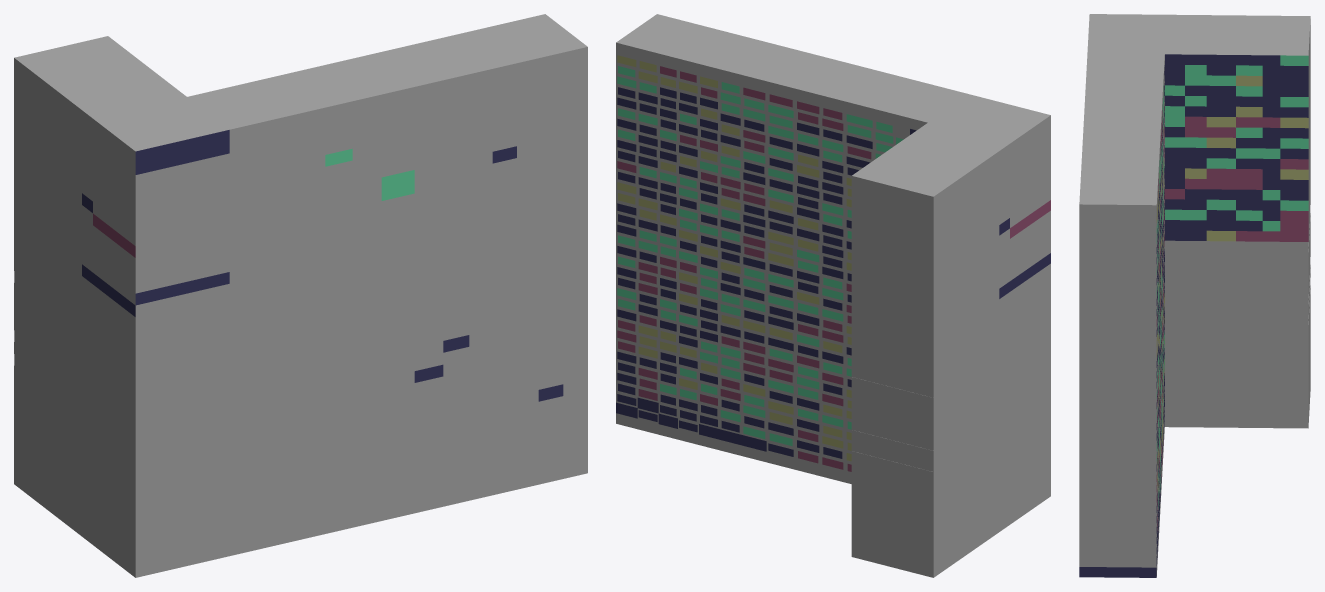
Rendered from BuildingD.fbx.
The picture shows the model from 3 angles, left to right: view 1: azimuth 30°, elevation 25°; view 2: azimuth 150°, elevation 25°; view 3: azimuth 270°, elevation 25°; orthographic projection. The views are drawn at different scales.
Visible parts, largest first — view 1: BuildingD; view 2: BuildingD; view 3: BuildingD.
Boxes of the visible parts, x1,y1,x2,y2 form: BuildingD: [14, 14, 587, 577]; BuildingD: [616, 14, 1050, 577]; BuildingD: [1079, 14, 1310, 577].
Bounding box in the file's own units: 51.57 × 46.89 × 26.36.
